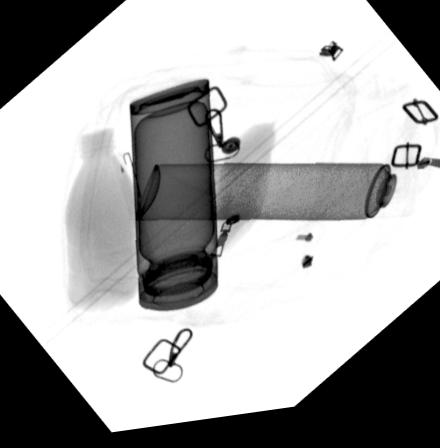Sprayer: (135, 167, 418, 231)
